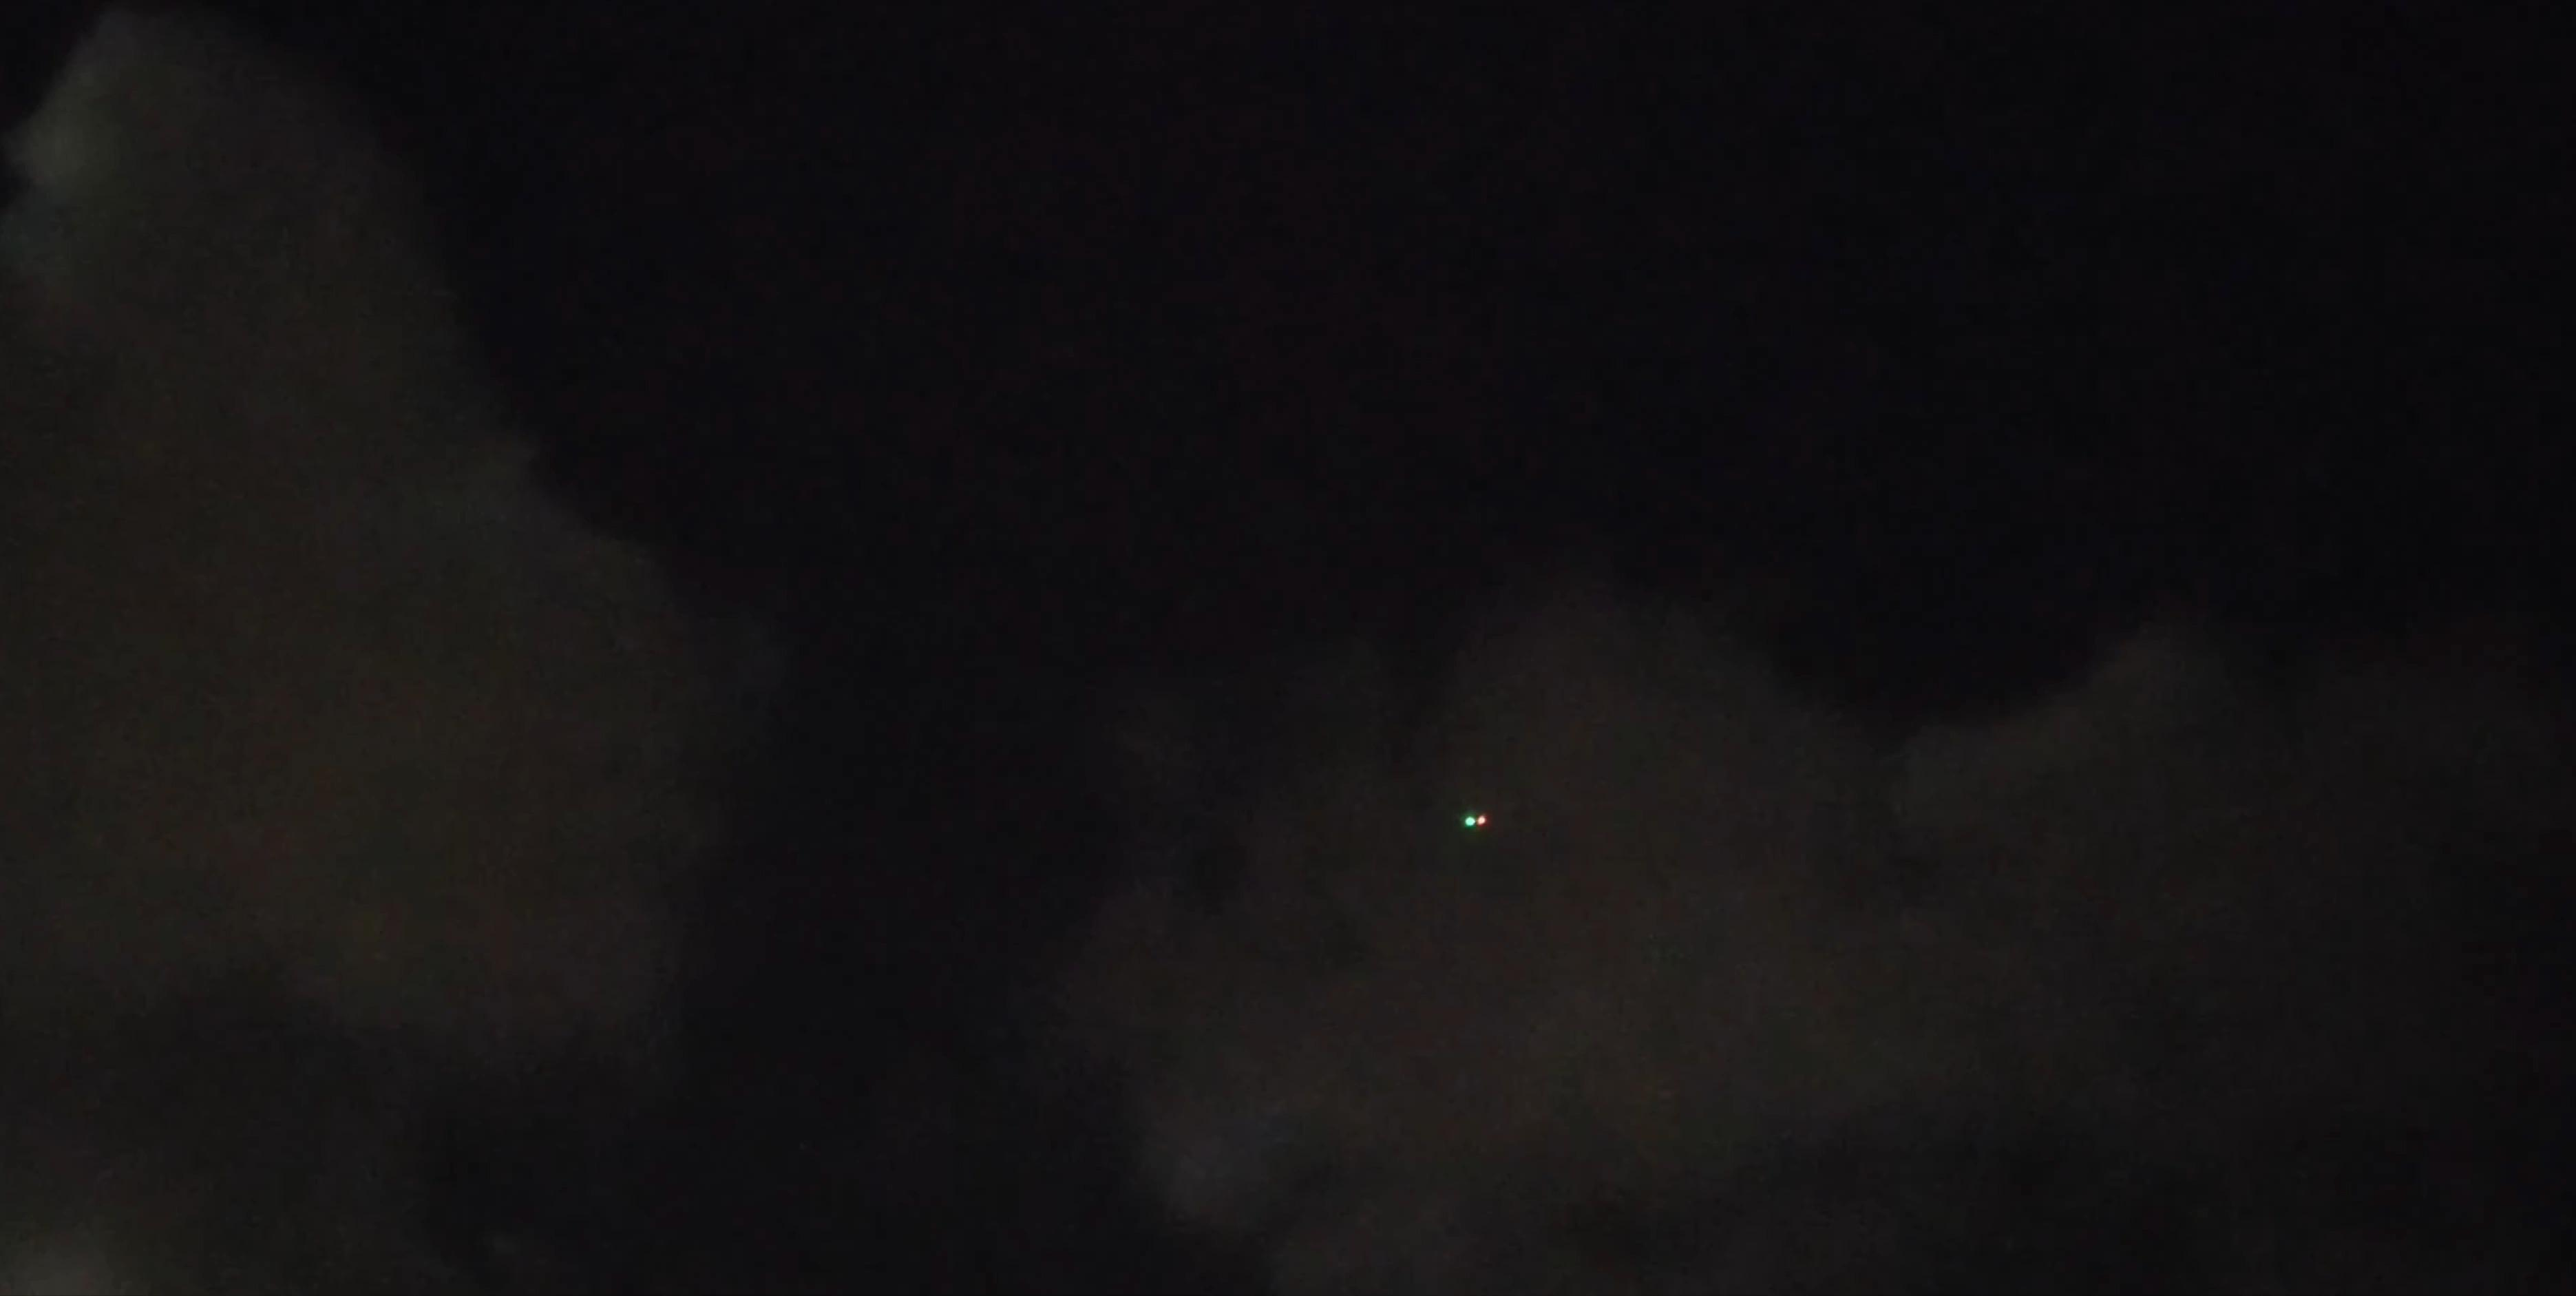Plane: (1452, 797, 1502, 843)
